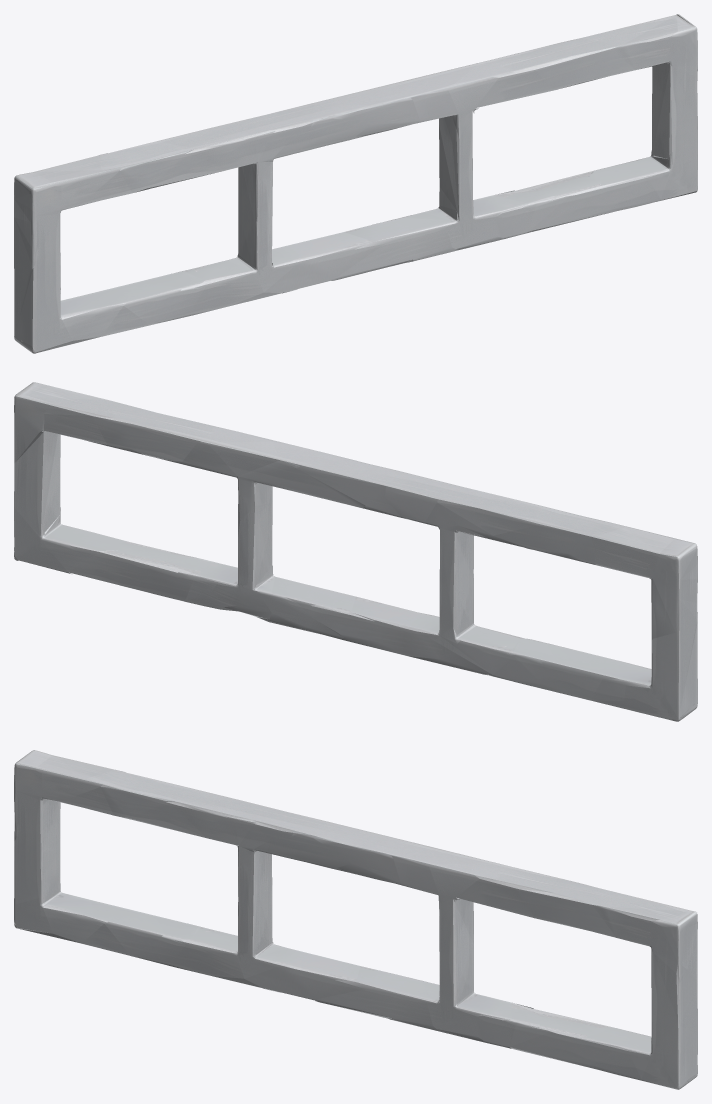
File: raw_win_semi_letterbox.glb
3 renders of one model, top to bottom at view 1: azimuth 30°, elevation 25°; view 2: azimuth 150°, elevation 25°; view 3: azimuth 330°, elevation 25°, orthographic.
Size of the model in its own units: 1.9 by 0.4534 by 0.0963.
1 material, 1 textured.
